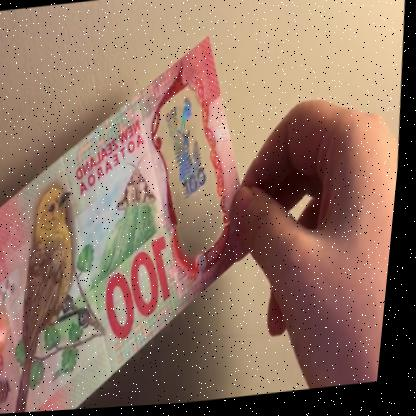100B: (157, 94, 225, 209)
